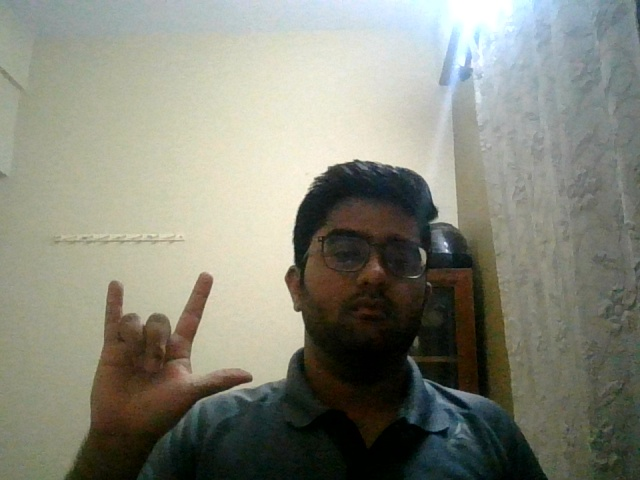I Love You: (78, 260, 259, 447)
